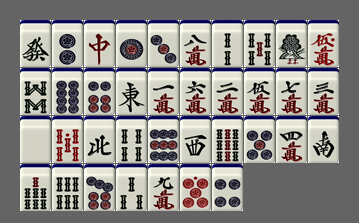0m: (308, 20, 339, 67)
0p: (180, 164, 211, 211)
0s: (52, 116, 83, 163)
1m: (148, 68, 179, 115)
1p: (116, 20, 147, 67)
1s: (276, 20, 307, 67)
1z: (116, 68, 147, 115)
2m: (212, 68, 243, 115)
2p: (52, 20, 83, 67)
2s: (212, 20, 243, 67)
2z: (308, 116, 339, 163)
3m: (308, 68, 339, 115)
3p: (148, 20, 179, 67)
3s: (116, 164, 147, 211)
3z: (180, 116, 211, 163)
4m: (276, 116, 307, 163)
4p: (212, 164, 243, 211)
4s: (116, 116, 147, 163)
4z: (84, 116, 115, 163)
5m: (244, 68, 275, 115)
5p: (244, 116, 275, 163)
5s: (244, 20, 275, 67)
5z: (20, 116, 51, 163)
6m: (180, 68, 211, 115)
6p: (84, 68, 115, 115)
6s: (52, 164, 83, 211)
6z: (20, 20, 51, 67)
7m: (276, 68, 307, 115)
7p: (84, 164, 115, 211)
7s: (20, 164, 51, 211)
7z: (84, 20, 115, 67)
8m: (180, 20, 211, 67)
8p: (52, 68, 83, 115)
8s: (20, 68, 51, 115)
9m: (148, 164, 179, 211)
9p: (148, 116, 179, 163)
9s: (212, 116, 243, 163)
